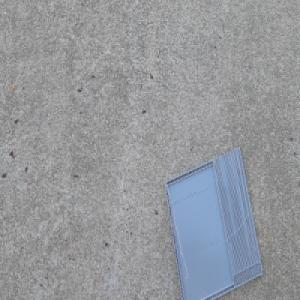PlasticPart: (163, 144, 263, 300)
